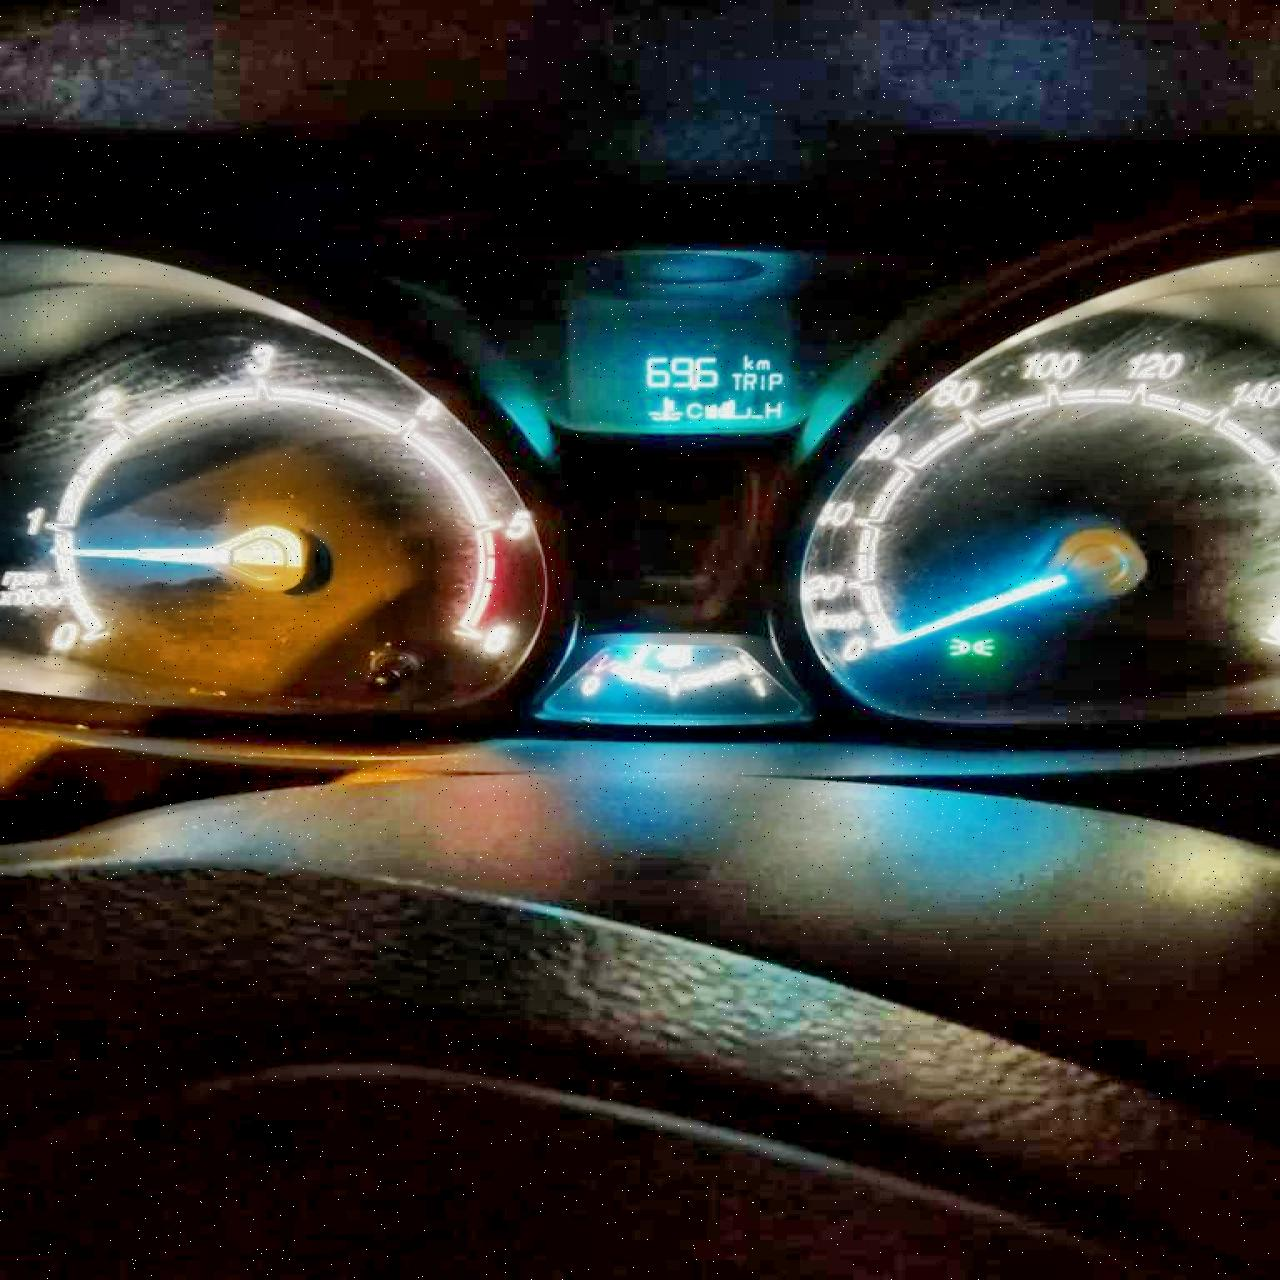-: (688, 382, 696, 390)
6: (641, 355, 668, 389), (694, 354, 719, 388)
9: (669, 355, 693, 387)
X: (762, 399, 782, 418), (683, 400, 702, 418), (767, 372, 782, 390), (742, 372, 755, 390), (728, 370, 740, 390), (754, 358, 769, 370), (741, 353, 751, 369), (757, 373, 763, 390)
odometer: (533, 335, 822, 435)
